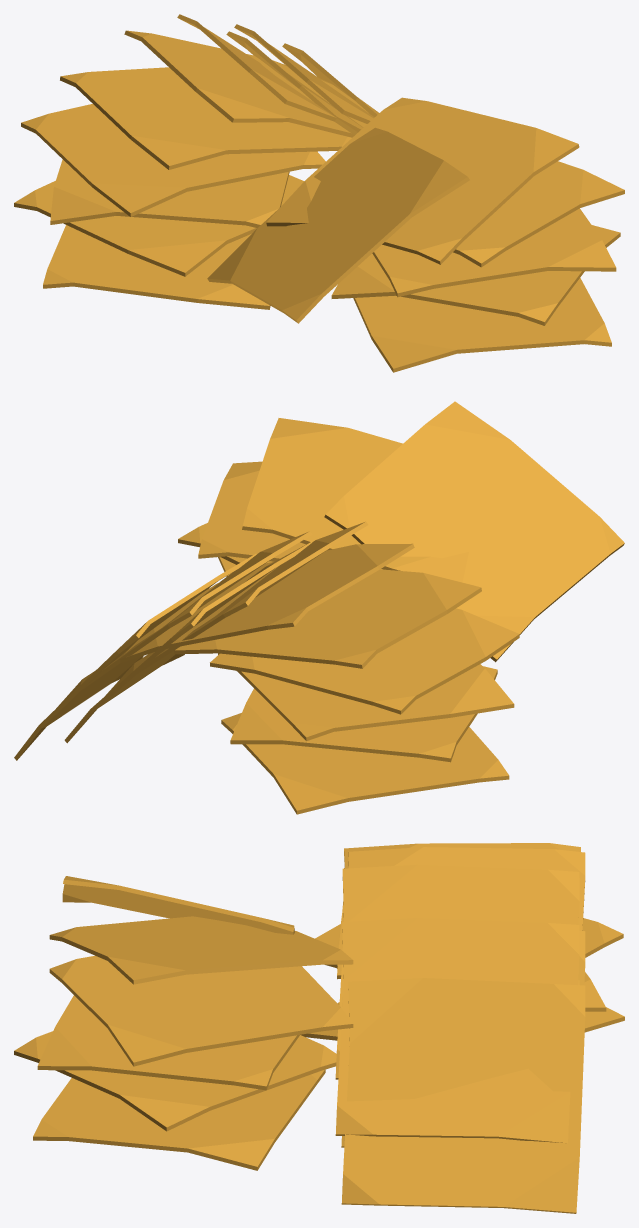
File: cheese table.fbx
3 renders of one model, top to bottom at view 1: azimuth 30°, elevation 25°; view 2: azimuth 150°, elevation 25°; view 3: azimuth 270°, elevation 25°, orthographic. The views are drawn at different scales.
Visible parts, largest first — view 1: Plane.017; view 2: Plane.017; view 3: Plane.017.
Part boxes in pixels (x1,y1,x2,y2): Plane.017: (14, 14, 624, 372); Plane.017: (14, 401, 624, 814); Plane.017: (14, 843, 624, 1213).
Bounding box in the file's own units: 30.72 × 15.21 × 35.63.
